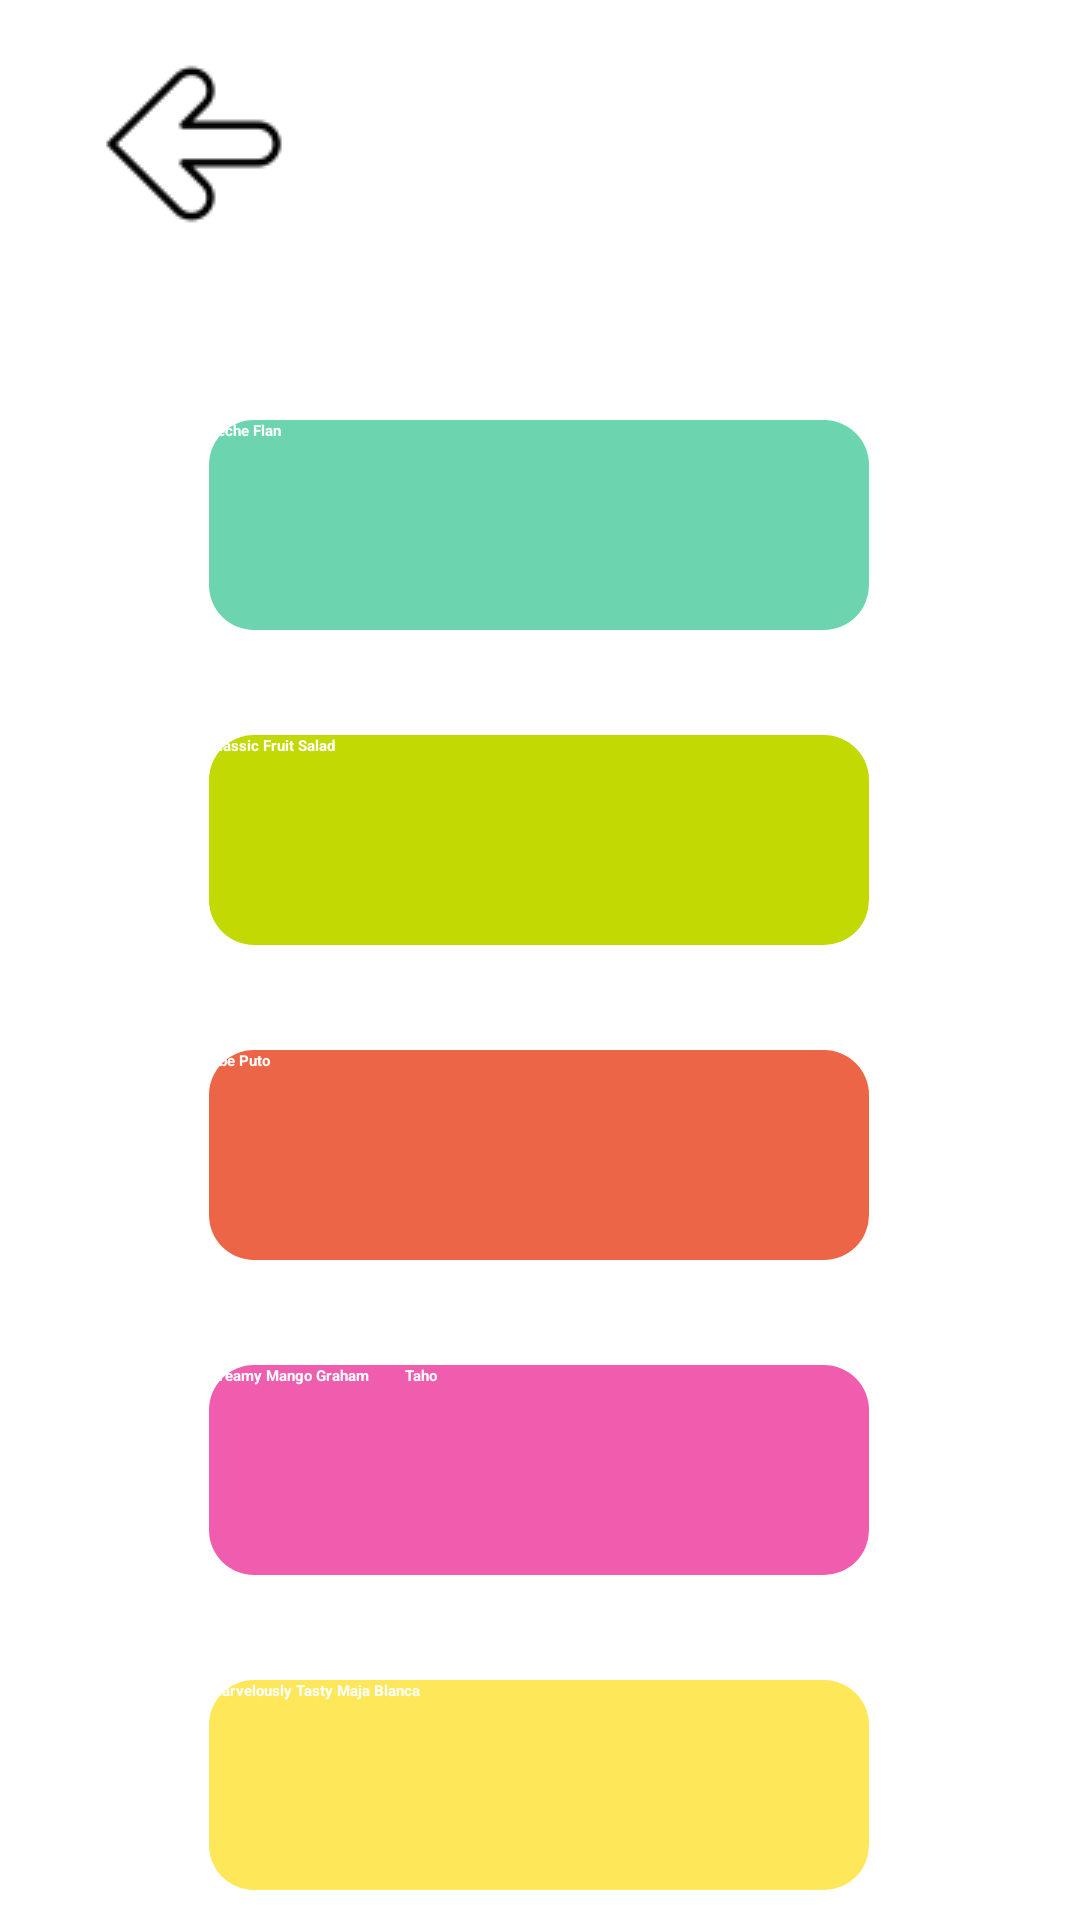

Screen size 1080px×1920px. Icon name, then its center in pixels as [x,y]:
back: [194,144]
